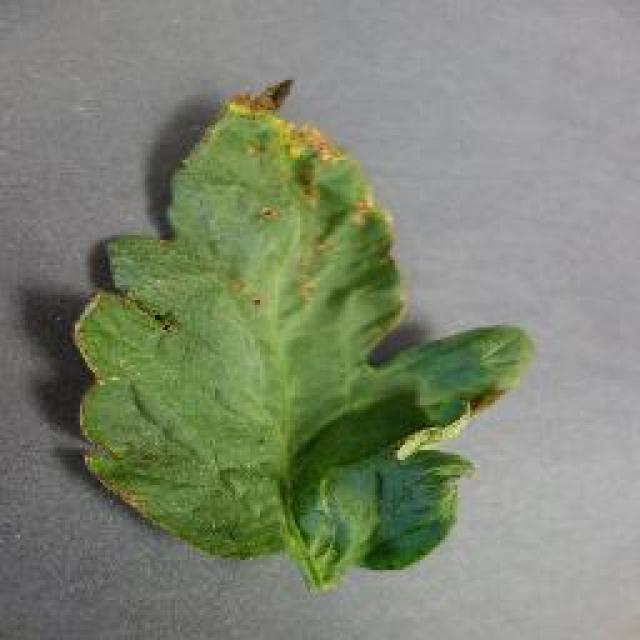bacterial spot: (62, 80, 543, 593)
